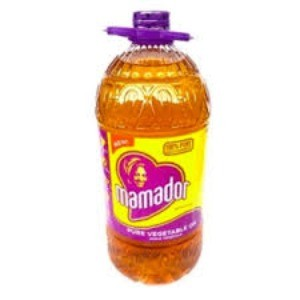vegetable oil_brain food: (109, 97, 205, 264)
